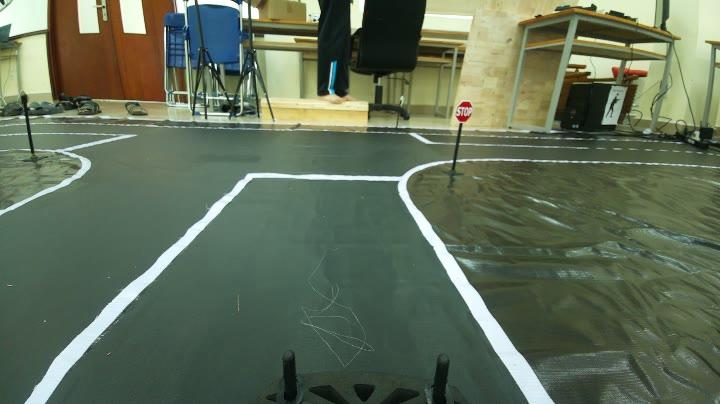stop: (452, 94, 475, 125)
